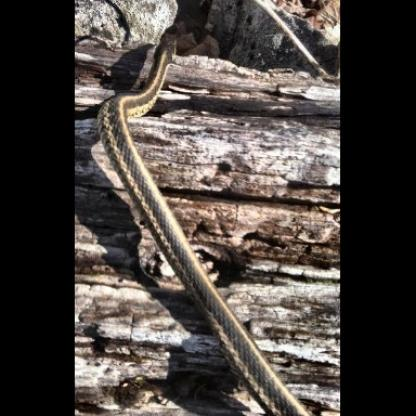Snake: (99, 29, 297, 407)
